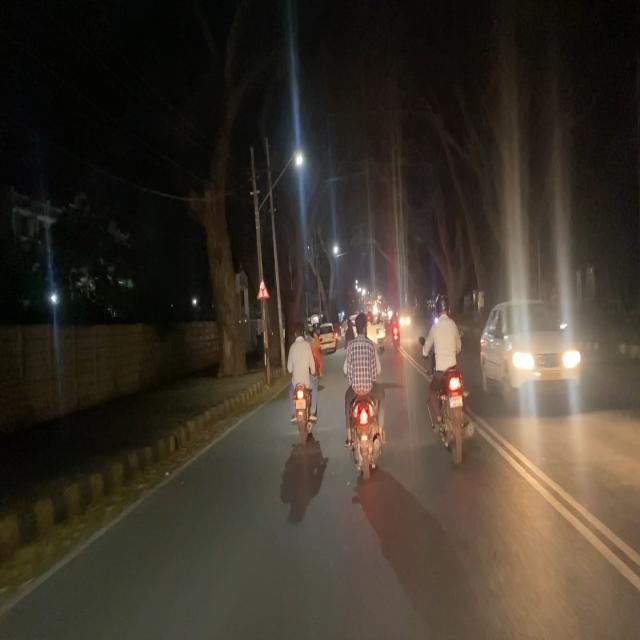bien_nguy_hiem: (255, 275, 270, 302)
